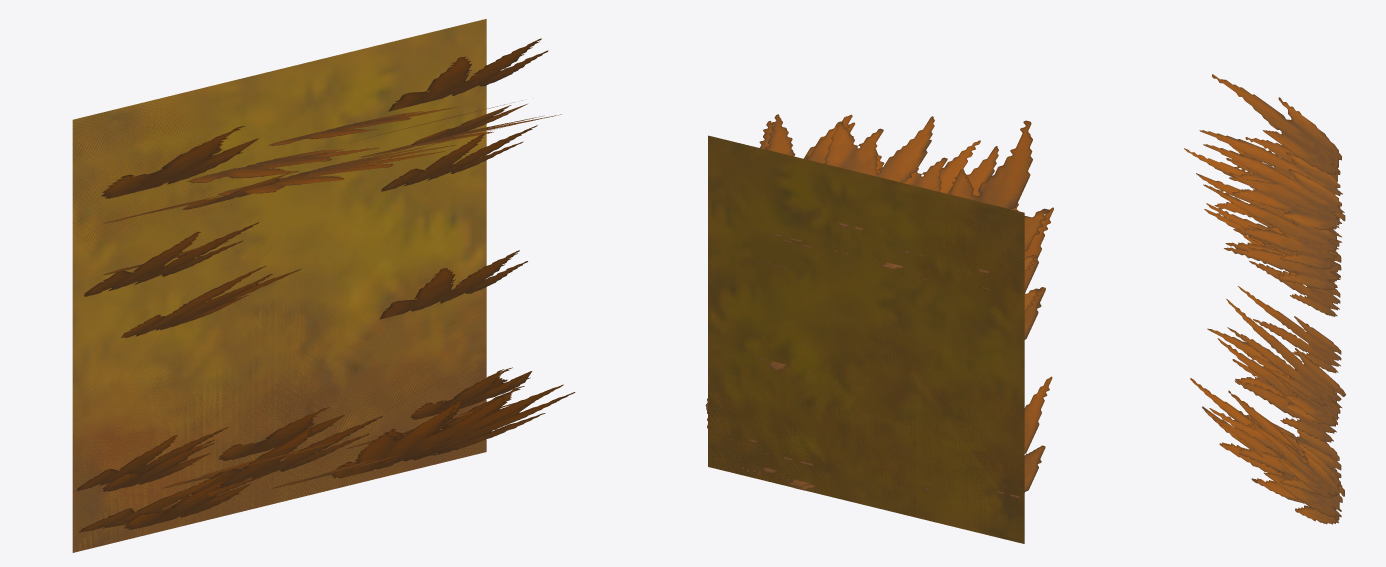
Rendered from unique_tiles.glb.
3 views of the same model, side by side, from view 1: azimuth 30°, elevation 25°; view 2: azimuth 150°, elevation 25°; view 3: azimuth 270°, elevation 25° (orthographic). The views are drawn at different scales.
Parts seen in each view (by area): view 1: rsrc.world.tileset.sky islands autumn.unique_tiles-Variant[f (×14); view 2: rsrc.world.tileset.sky islands autumn.unique_tiles-Variant[f (×9); view 3: rsrc.world.tileset.sky islands autumn.unique_tiles-Variant[f (×10).
Boxes of the visible parts, box(x1,y1,x2,y2) form: rsrc.world.tileset.sky islands autumn.unique_tiles-Variant[f (×14): box(72, 19, 575, 552); rsrc.world.tileset.sky islands autumn.unique_tiles-Variant[f (×9): box(708, 114, 1053, 543); rsrc.world.tileset.sky islands autumn.unique_tiles-Variant[f (×10): box(1184, 74, 1345, 524).
Size of the model in its own units: 1.27 by 1.23 by 0.5846.
Materials: 2 (2 with a texture image).
